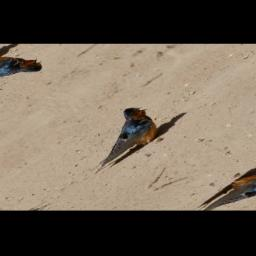Swallow: (55, 103, 177, 175)
